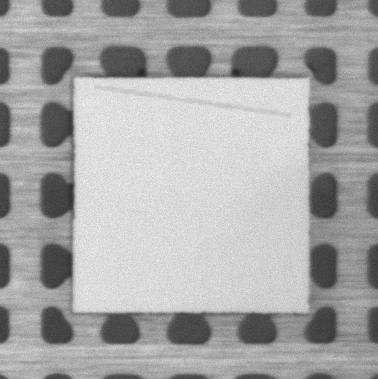DIE_CRACK: (97, 87, 288, 115)
